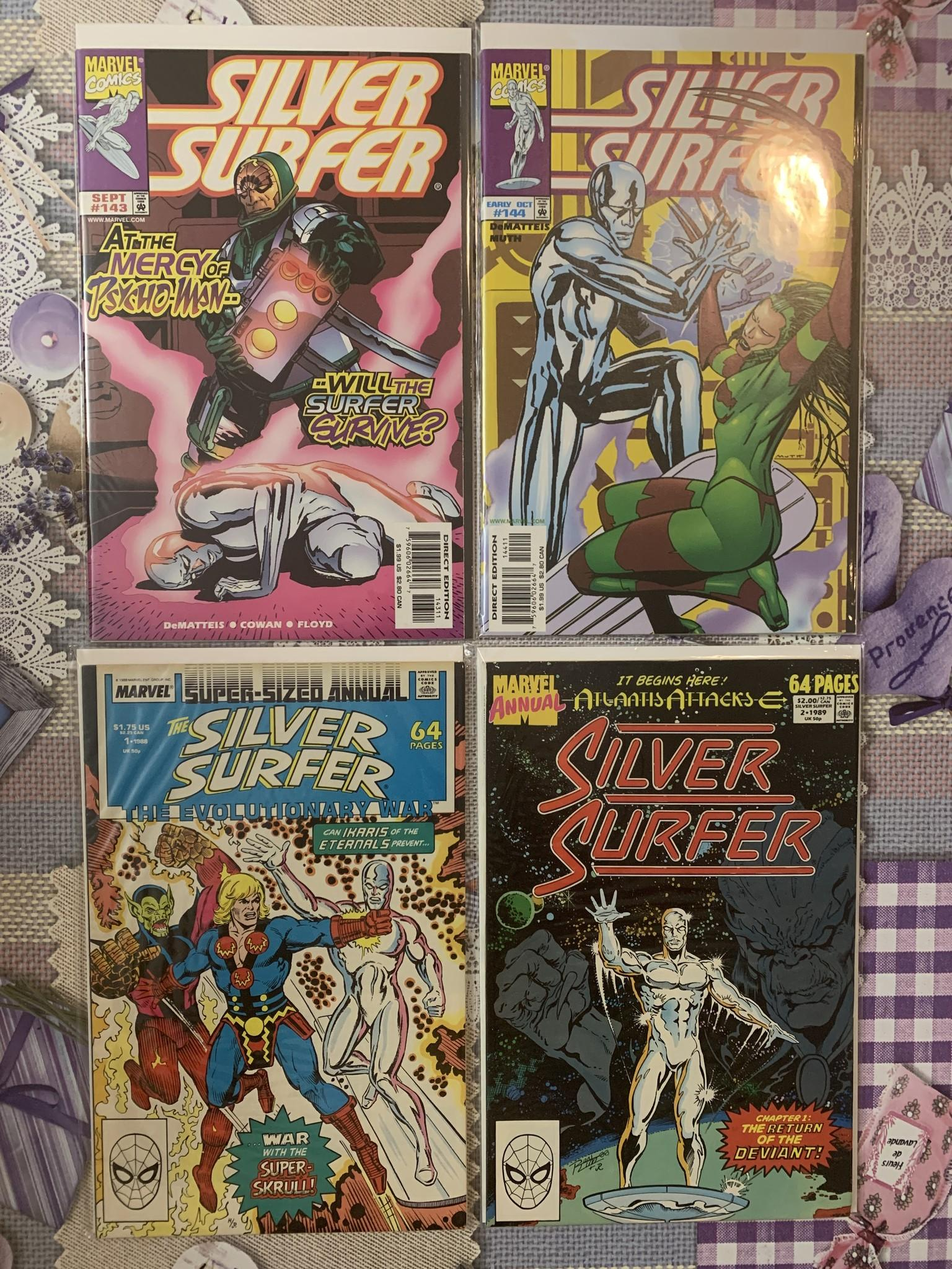comic: (76, 25, 470, 641), (473, 25, 864, 638), (79, 645, 471, 1237), (478, 647, 859, 1224)
